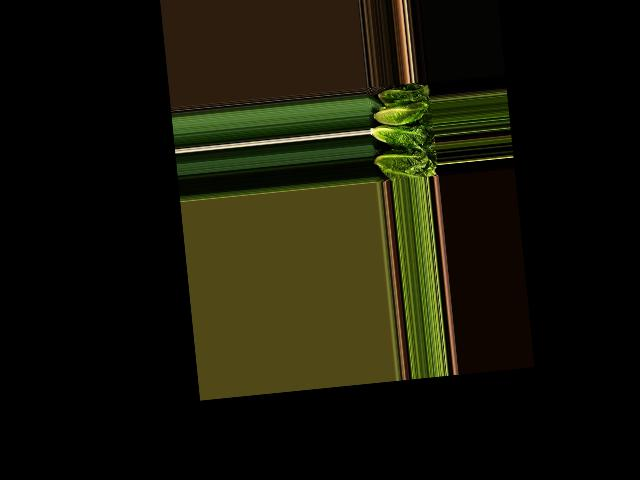lettuce: (379, 85, 430, 105)
